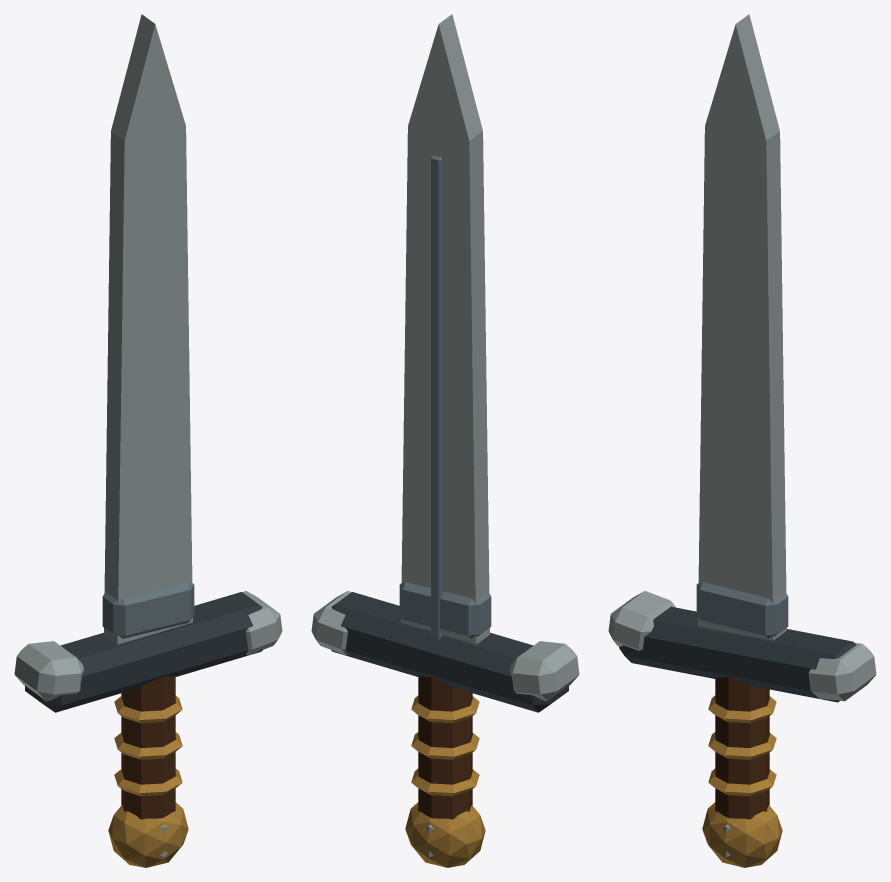
File: Sword.glb
3 renders of one model, left to right at view 1: azimuth 30°, elevation 25°; view 2: azimuth 150°, elevation 25°; view 3: azimuth 330°, elevation 25°, orthographic.
Parts seen in each view (by area): view 1: Sculpture; view 2: Sculpture; view 3: Sculpture.
Part boxes in pixels (<box>): Sculpture: <box>14,14,282,867</box>; Sculpture: <box>311,14,579,867</box>; Sculpture: <box>608,14,876,867</box>.
Bounding box in the file's own units: 0.3517 × 1.16 × 0.088.
